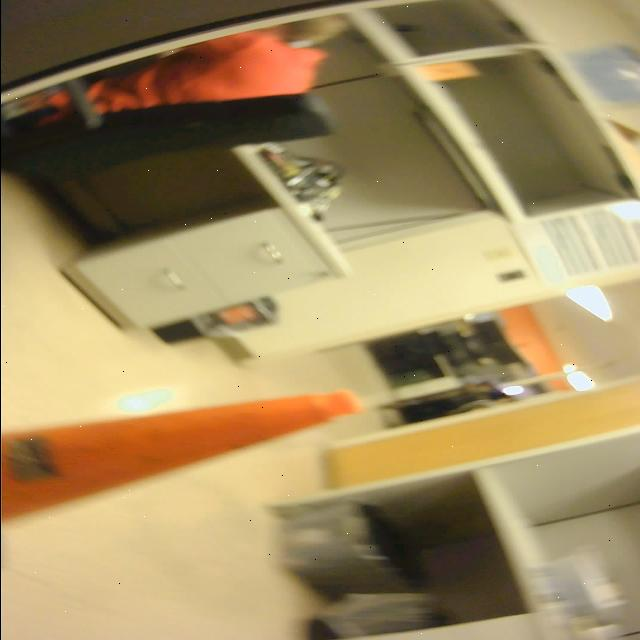traffic cone: (1, 386, 372, 548)
